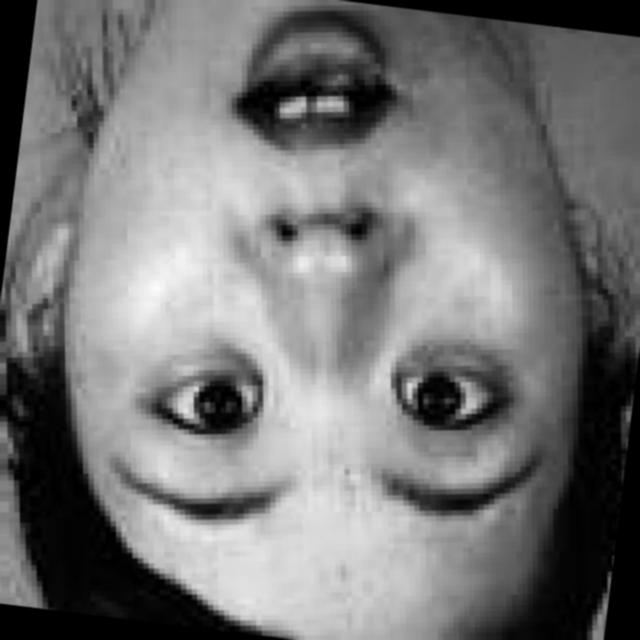surprise: (34, 0, 587, 611)
